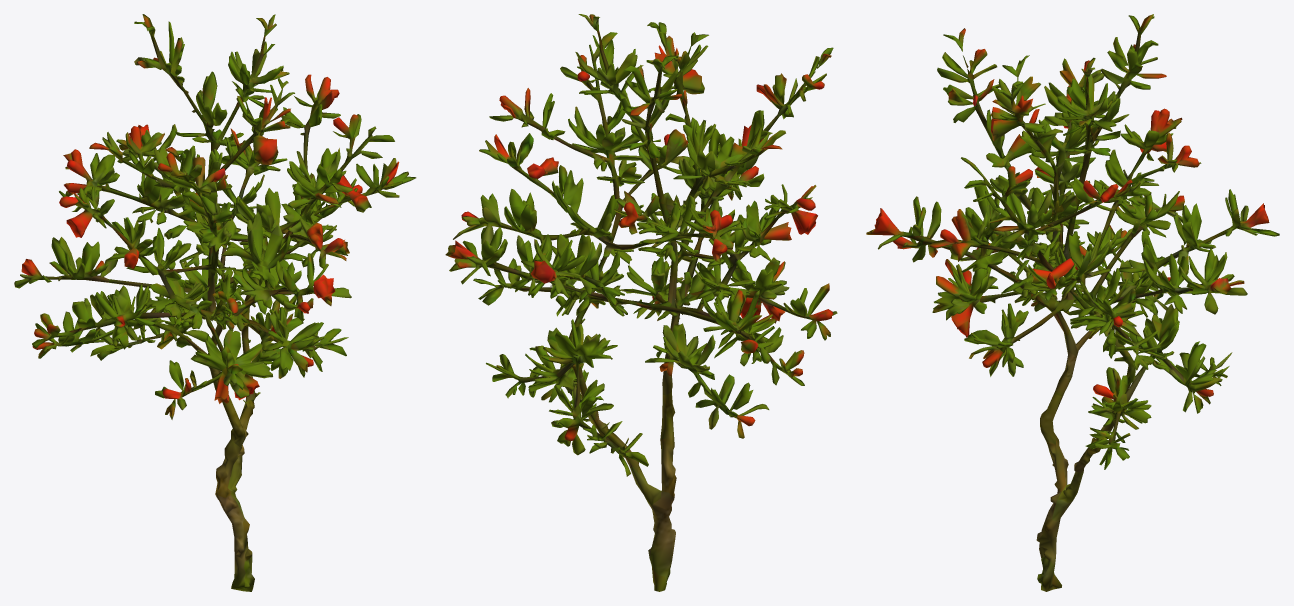
Rendered from ShiLiuShu.glb.
The picture shows the model from 3 angles, left to right: view 1: azimuth 30°, elevation 25°; view 2: azimuth 150°, elevation 25°; view 3: azimuth 270°, elevation 25°; orthographic projection. The views are drawn at different scales.
Visible parts, largest first — view 1: tripo_node_64b4587d-10f4-4269-81f6-4dfe69ae4886; view 2: tripo_node_64b4587d-10f4-4269-81f6-4dfe69ae4886; view 3: tripo_node_64b4587d-10f4-4269-81f6-4dfe69ae4886.
Boxes of the visible parts, left/top/right/bottom form: tripo_node_64b4587d-10f4-4269-81f6-4dfe69ae4886: left=14, top=14, right=416, bottom=591; tripo_node_64b4587d-10f4-4269-81f6-4dfe69ae4886: left=445, top=14, right=837, bottom=591; tripo_node_64b4587d-10f4-4269-81f6-4dfe69ae4886: left=866, top=14, right=1279, bottom=591.
Size of the model in its own units: 0.6421 by 0.9769 by 0.6654.
1 material, 1 textured.
